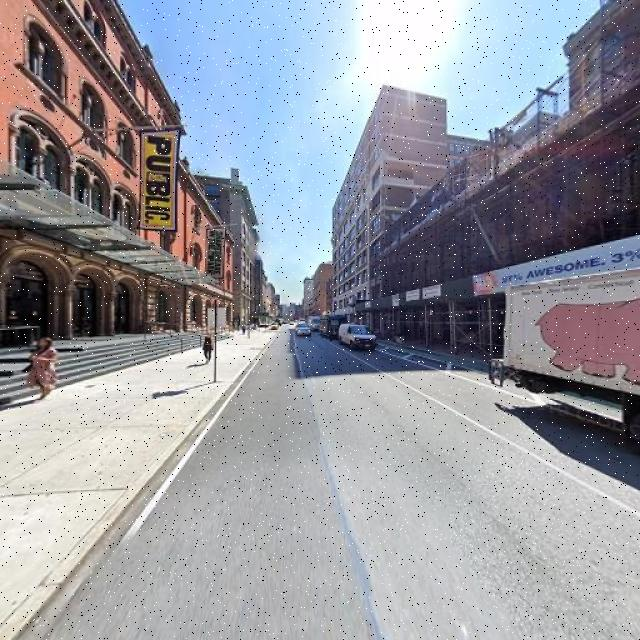Building: (1, 1, 233, 367), (569, 1, 640, 369), (467, 115, 562, 357), (335, 94, 382, 332), (422, 165, 462, 344), (384, 207, 419, 338)
